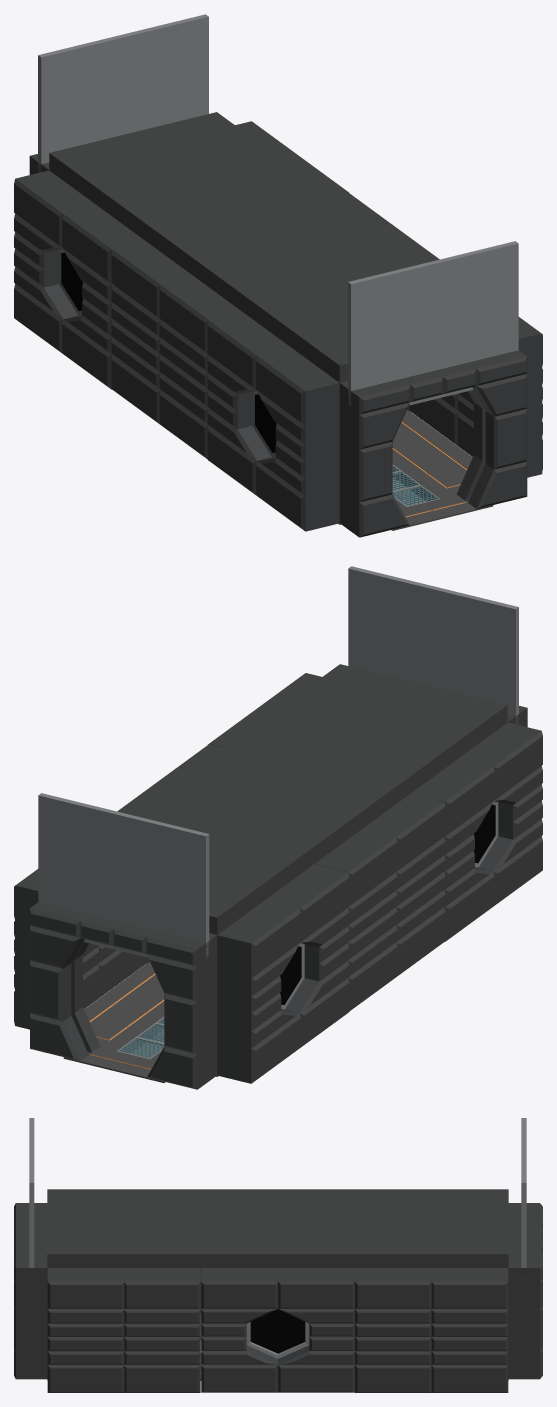
File: corridor.fbx
The picture shows the model from 3 angles, top to bottom: view 1: azimuth 30°, elevation 25°; view 2: azimuth 150°, elevation 25°; view 3: azimuth 270°, elevation 25°; orthographic projection. The views are drawn at different scales.
Parts seen in each view (by area): view 1: wall2, celing, door1, door1_plate, door2_plate, wall1, floor; view 2: wall2, celing, door2_plate, door2, door1_plate, wall1, floor; view 3: wall1, celing, door2, door1, door1_plate, door2_plate.
Part boxes in pixels (bbox=[...]): wall2: bbox=[14, 170, 339, 531]; celing: bbox=[49, 112, 423, 382]; door1: bbox=[339, 350, 527, 537]; door1_plate: bbox=[348, 241, 518, 406]; door2_plate: bbox=[38, 14, 208, 172]; wall1: bbox=[235, 121, 542, 477]; floor: bbox=[338, 410, 493, 530]; wall2: bbox=[217, 722, 542, 1083]; celing: bbox=[133, 664, 507, 934]; door2_plate: bbox=[38, 793, 209, 958]; door2: bbox=[30, 902, 217, 1089]; door1_plate: bbox=[348, 566, 518, 724]; wall1: bbox=[14, 673, 321, 1029]; floor: bbox=[63, 962, 218, 1082]; wall1: bbox=[47, 1268, 508, 1392]; celing: bbox=[47, 1189, 508, 1267]; door2: bbox=[508, 1203, 542, 1379]; door1: bbox=[14, 1203, 47, 1379]; door1_plate: bbox=[29, 1118, 34, 1267]; door2_plate: bbox=[521, 1118, 526, 1267].
Size of the model in its own units: 1443 by 1482 by 3440.
